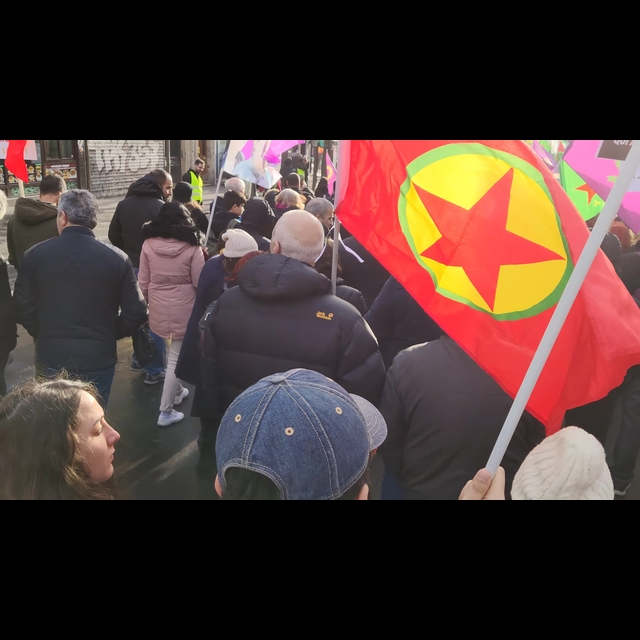PKK: (393, 143, 580, 326)
